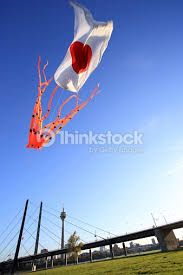Japanese Flag: (53, 1, 118, 96)
